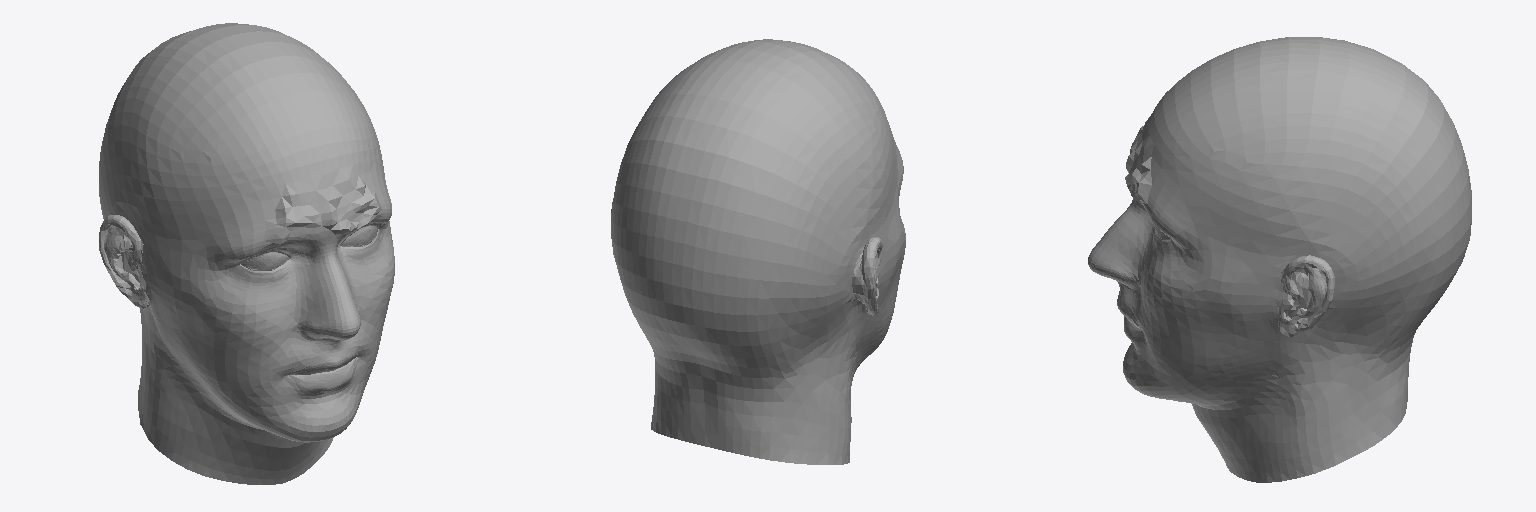
The model's file is MaleFaced25.obj.
3 renders of one model, left to right at view 1: azimuth 30°, elevation 25°; view 2: azimuth 150°, elevation 25°; view 3: azimuth 270°, elevation 25°, orthographic.
Visible parts, largest first — view 1: HeadHires; view 2: HeadHires; view 3: HeadHires.
Boxes of the visible parts, <box> form: HeadHires: <box>99,23,394,484</box>; HeadHires: <box>611,39,905,464</box>; HeadHires: <box>1088,37,1471,482</box>.
Bounding box in the file's own units: 188 × 283 × 238.